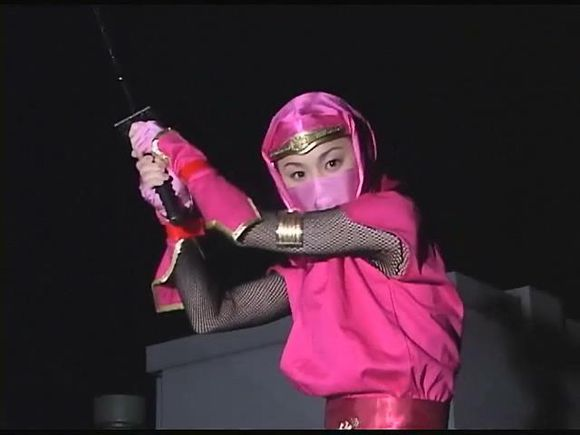face_mask: (282, 135, 359, 218)
